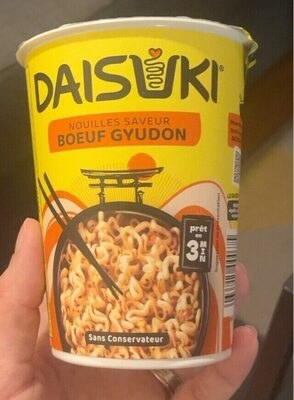Nouille Saveur Boeuf Gyudon: (15, 20, 279, 380)
